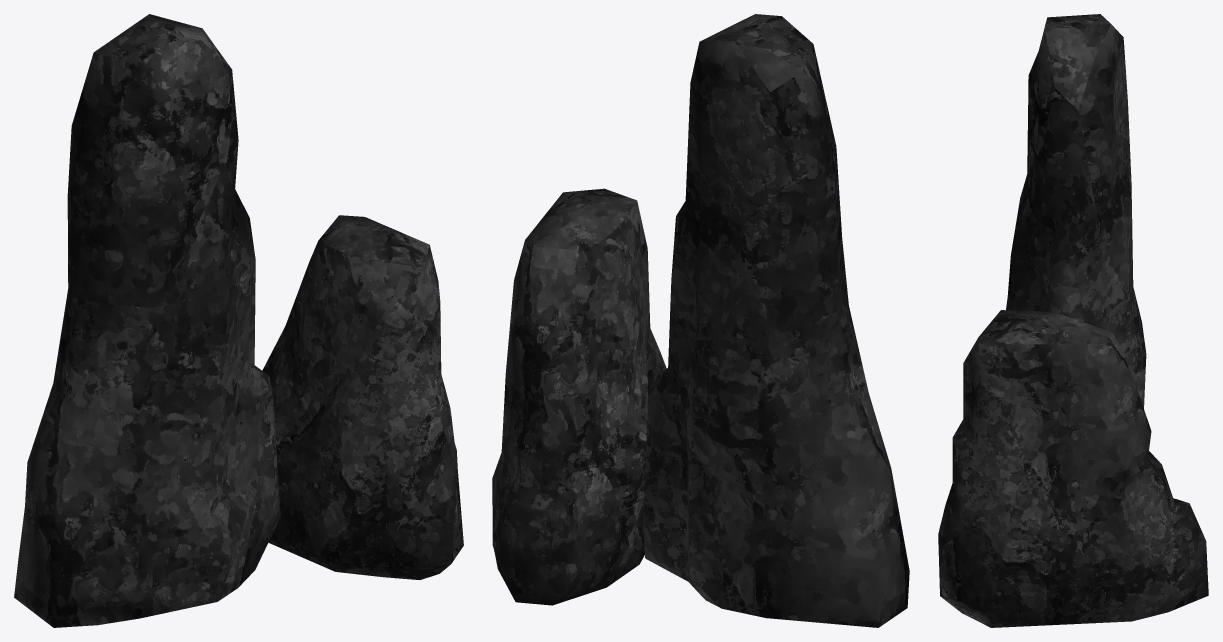
Rendered from shi5.FBX.
3 views of the same model, side by side, from view 1: azimuth 30°, elevation 25°; view 2: azimuth 150°, elevation 25°; view 3: azimuth 270°, elevation 25° (orthographic). The views are drawn at different scales.
Parts seen in each view (by area): view 1: stone_010_02; view 2: stone_010_02; view 3: stone_010_02.
Part boxes in pixels (<box>): stone_010_02: <box>14,14,463,627</box>; stone_010_02: <box>492,14,909,627</box>; stone_010_02: <box>938,14,1208,627</box>.
Bounding box in the file's own units: 336 × 463 × 224.
